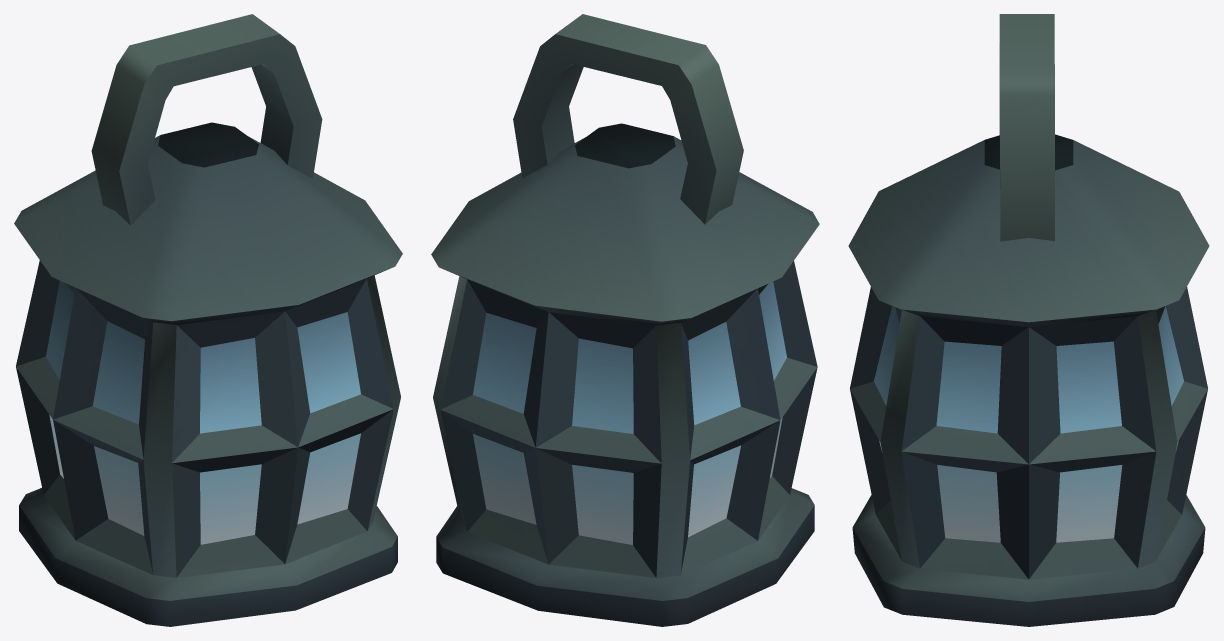
The model's file is lantern_off.fbx.
3 views of the same model, side by side, from view 1: azimuth 30°, elevation 25°; view 2: azimuth 150°, elevation 25°; view 3: azimuth 270°, elevation 25° (orthographic).
Parts seen in each view (by area): view 1: lantern_off; view 2: lantern_off; view 3: lantern_off.
Part boxes in pixels (x1,y1,x2,y2): lantern_off: [14, 14, 402, 626]; lantern_off: [431, 14, 819, 626]; lantern_off: [848, 14, 1209, 626].
Bounding box in the file's own units: 41.06 × 63.74 × 41.06.
